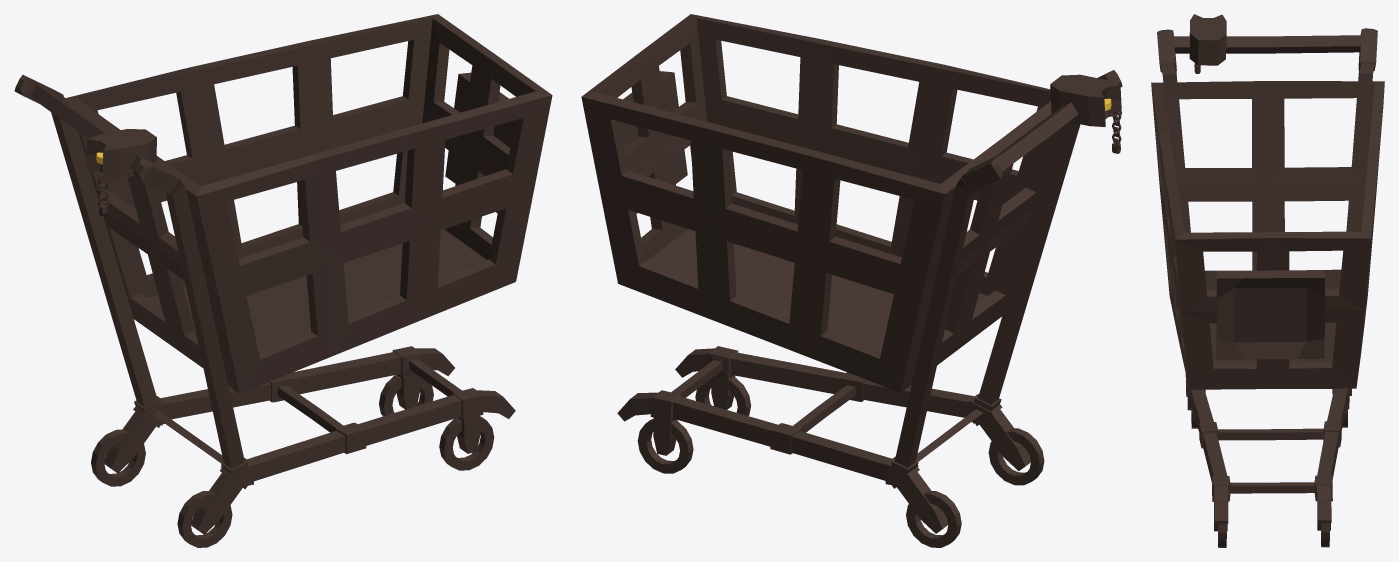
File: cart_brown.fbx
The picture shows the model from 3 angles, left to right: view 1: azimuth 30°, elevation 25°; view 2: azimuth 150°, elevation 25°; view 3: azimuth 270°, elevation 25°; orthographic projection. The views are drawn at different scales.
Visible parts, largest first — view 1: Cart, chain_1; view 2: Cart, chain_1; view 3: Cart, chain_1.
Boxes of the visible parts, bbox=[...] form: Cart: bbox=[14, 14, 552, 534]; chain_1: bbox=[86, 72, 515, 547]; Cart: bbox=[581, 14, 1122, 533]; chain_1: bbox=[618, 71, 1121, 547]; Cart: bbox=[1151, 28, 1384, 531]; chain_1: bbox=[1189, 14, 1347, 547].
Bounding box in the file's own units: 121 × 109 × 62.35.
Materials: 1 (1 with a texture image).
